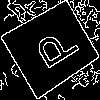P: (26, 23, 81, 77)
